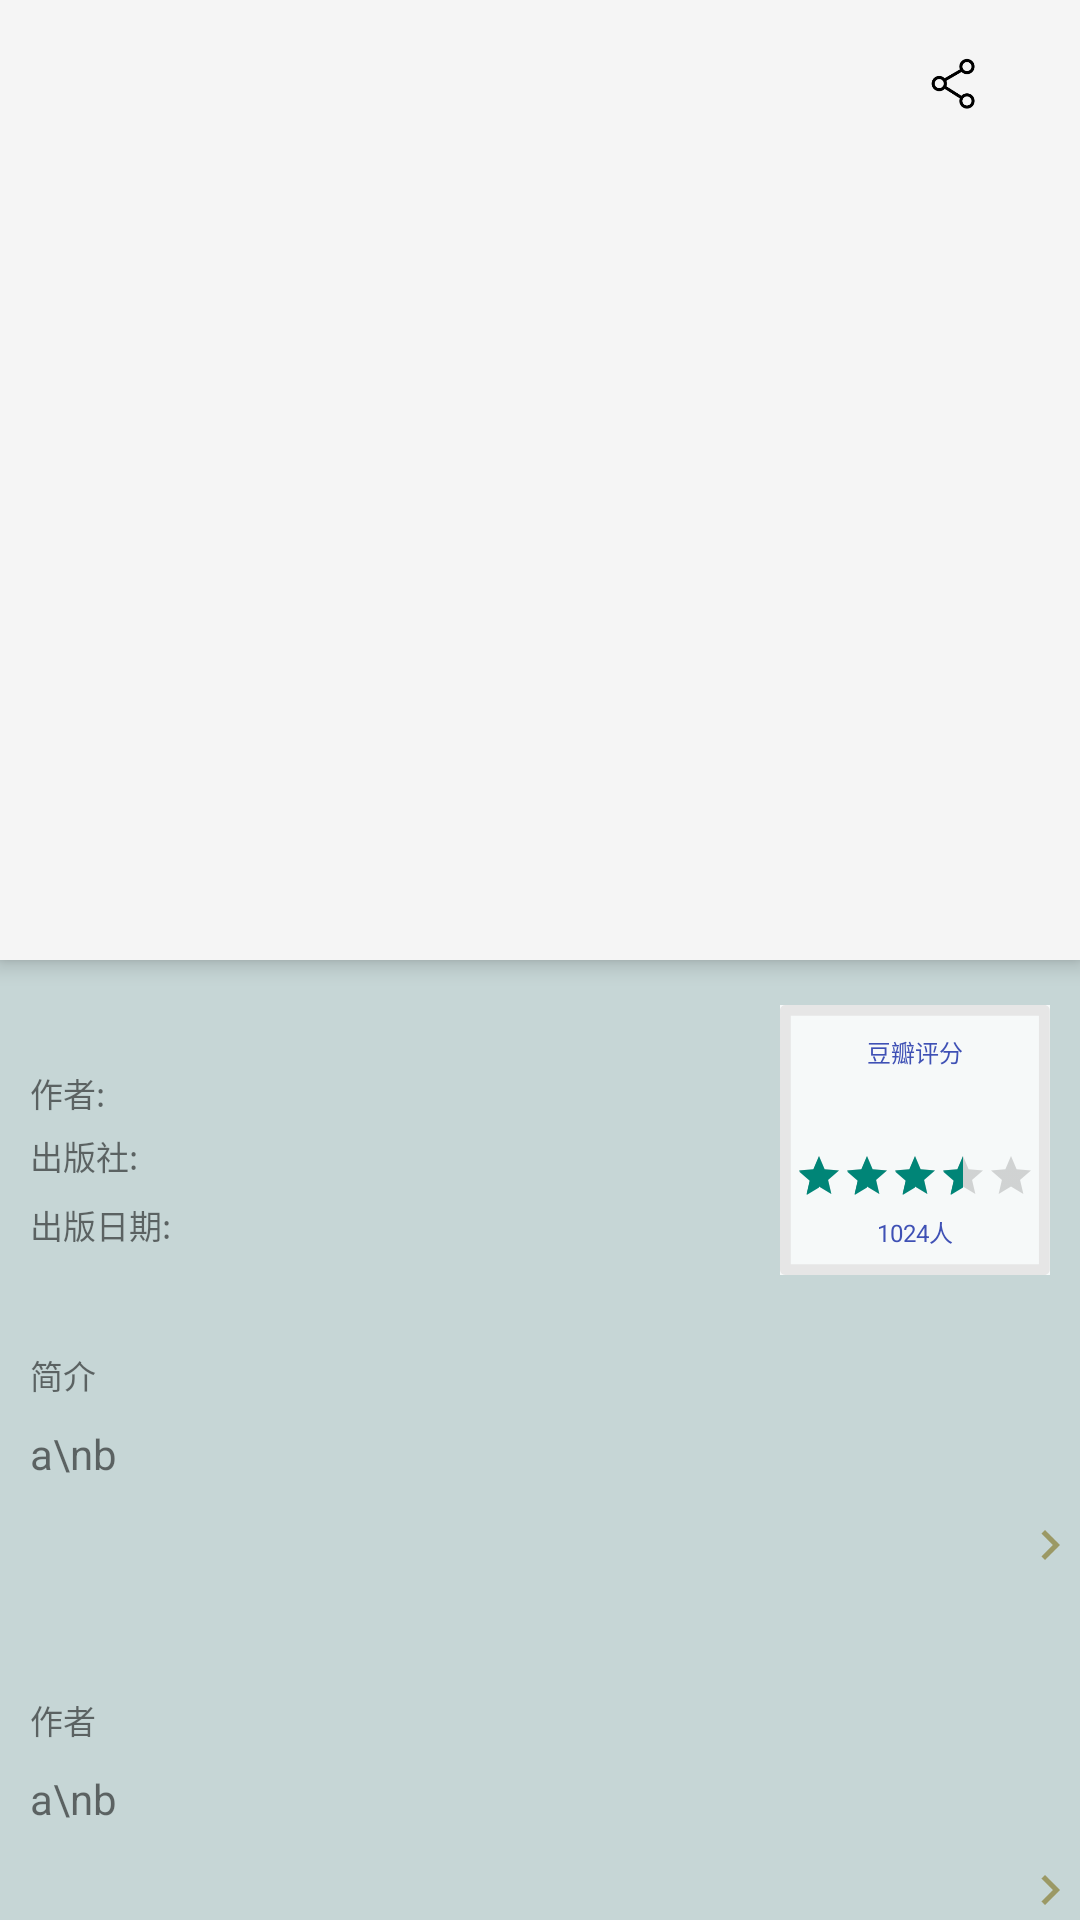

Screen size 1080w x 1920h. Icon name, then its box in pixels as bbox=[x1, y1, x2, y2]:
chevron right: bbox=[1041, 1530, 1060, 1560], bbox=[1041, 1875, 1060, 1905]
share: bbox=[931, 59, 975, 109]
